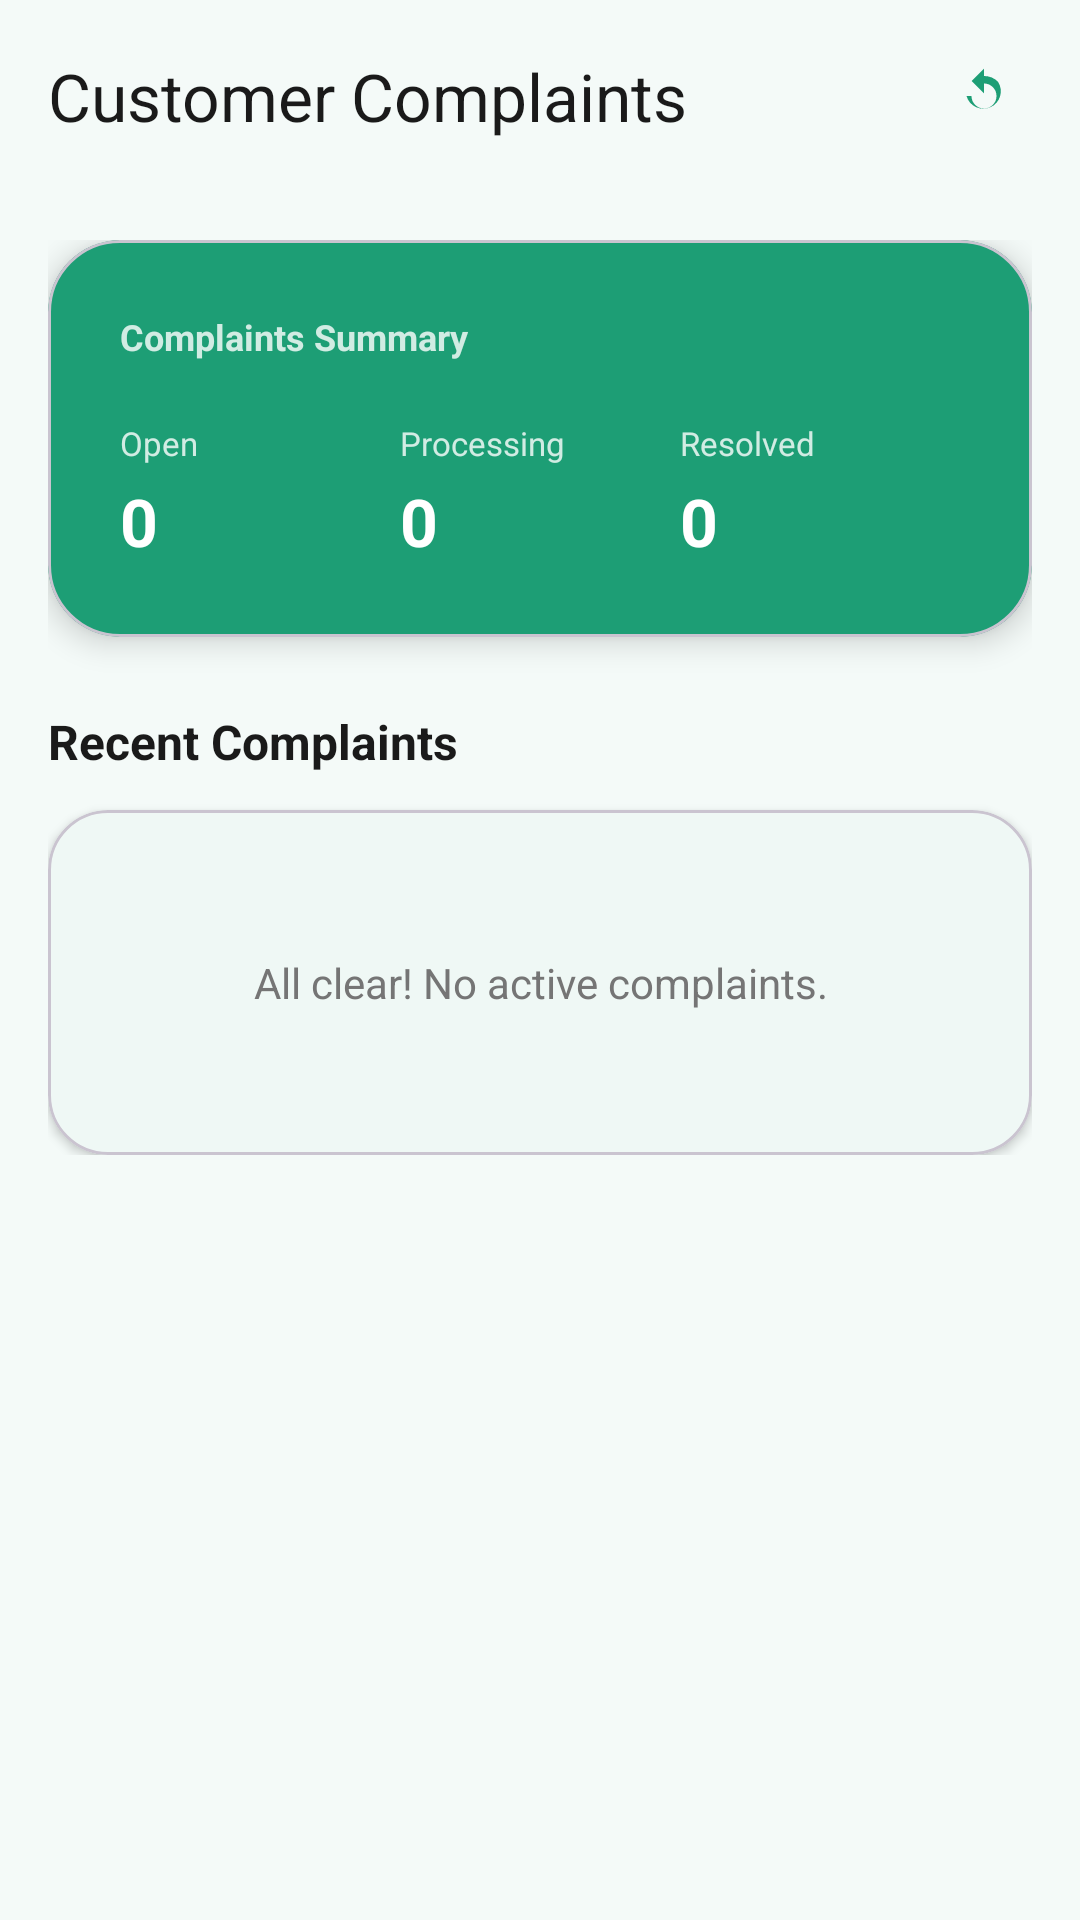

Where icons sit on this 1080 x 1920 app screen, as (x1, y1, x2, y2):
refresh: (966, 69, 1001, 109)
